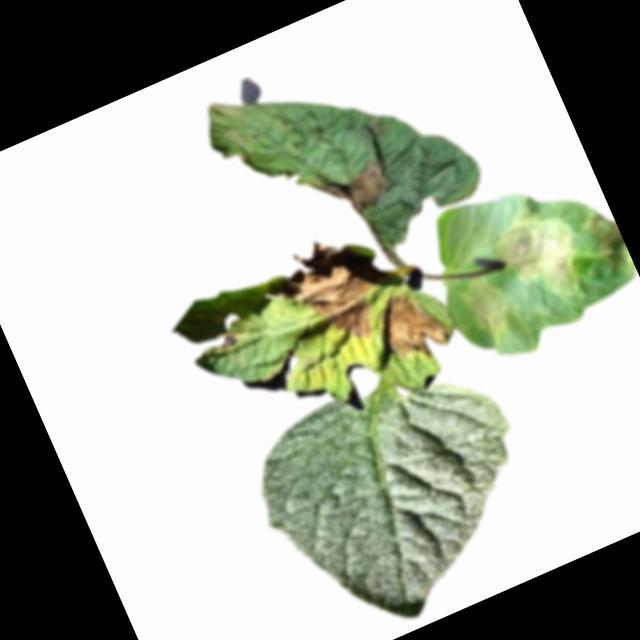Late_blight: (263, 230, 390, 366), (486, 200, 596, 314), (368, 279, 454, 372), (309, 151, 400, 227), (455, 266, 521, 344), (576, 204, 632, 275), (213, 324, 243, 352)
